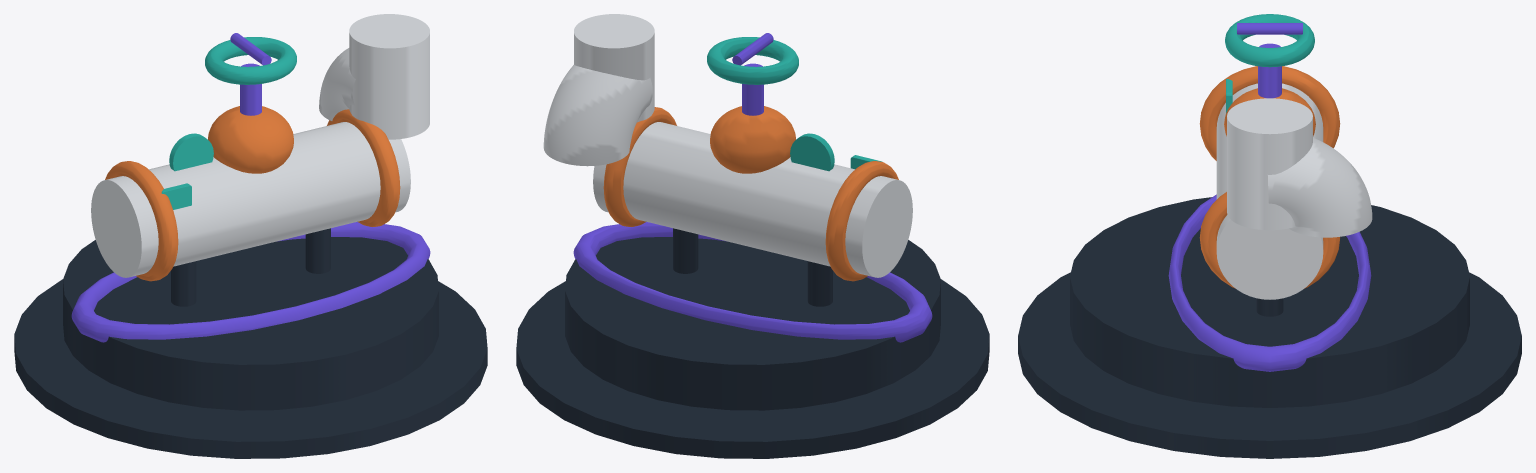
File: 0471_机械图鉴_3D打印机.glb
The picture shows the model from 3 angles, left to right: view 1: azimuth 30°, elevation 25°; view 2: azimuth 150°, elevation 25°; view 3: azimuth 270°, elevation 25°; orthographic projection. The views are drawn at different scales.
Parts seen in each view (by area): view 1: card_0471; view 2: card_0471; view 3: card_0471.
Boxes of the visible parts, x1,y1,x2,y2 form: card_0471: (14, 14, 487, 458); card_0471: (516, 14, 989, 458); card_0471: (1018, 14, 1521, 458).
Size of the model in its own units: 1.36 by 1 by 1.38.
